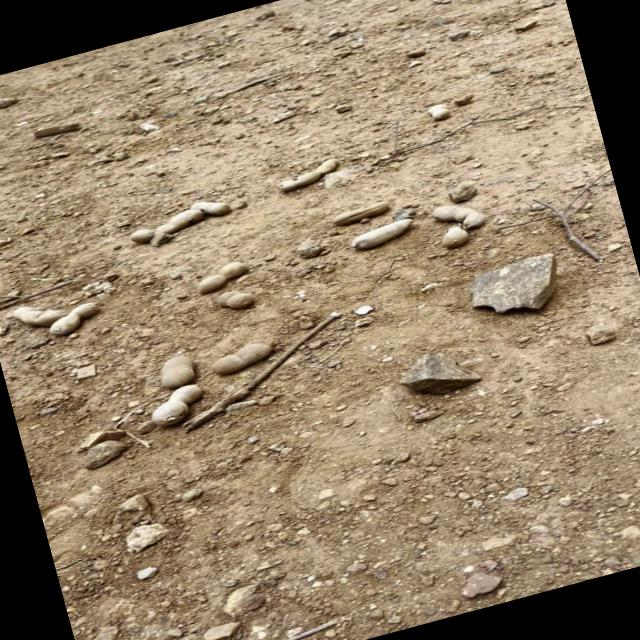tamarind: (109, 192, 238, 248), (419, 192, 488, 240), (344, 212, 419, 256), (141, 382, 209, 429), (272, 153, 344, 197), (207, 335, 282, 376), (322, 195, 398, 229), (5, 295, 64, 332), (198, 258, 250, 294), (55, 300, 100, 336), (152, 348, 194, 386), (438, 222, 474, 248)
